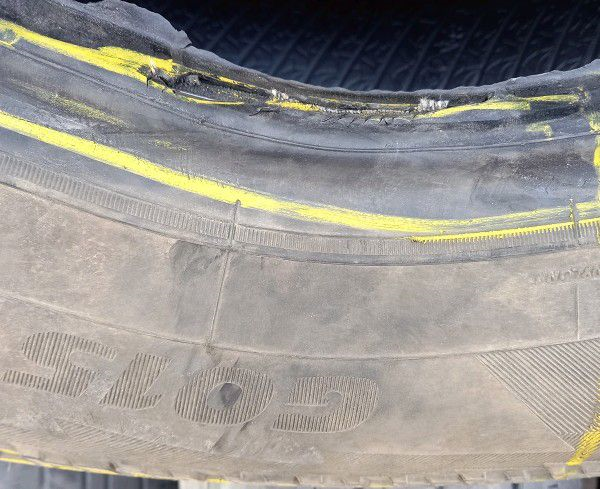bead_damage: (136, 39, 546, 139)
